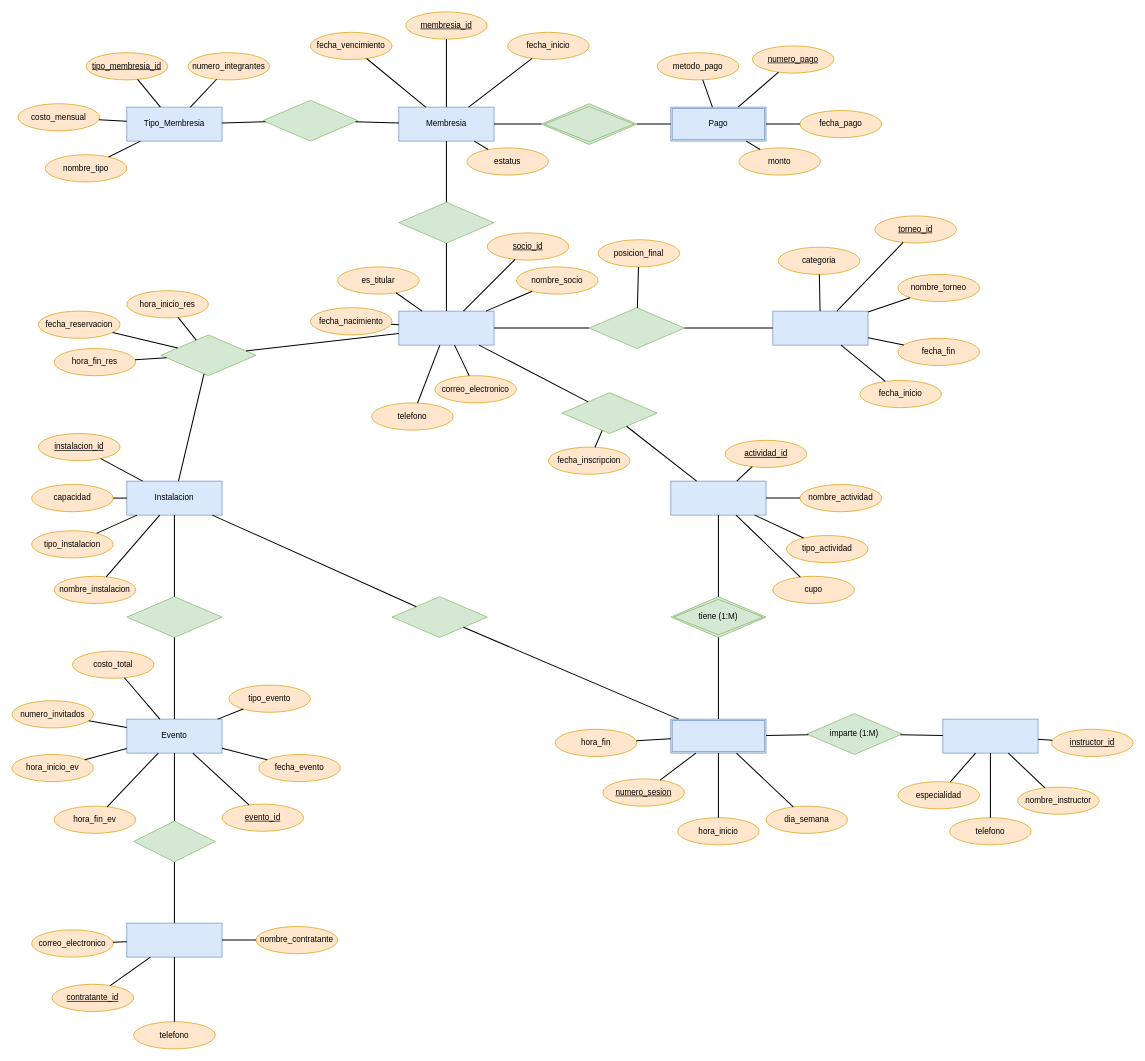
Some shapes in this 1145 by 1061 pixel diagram are drawn without their labels. The box of each missing label's shape, as (x1, y1, x2, y2) in pixels:
Actividad: (670, 480, 766, 515)
contrata (1:M): (133, 820, 215, 862)
Contratante: (126, 922, 222, 957)
define (1:M): (262, 100, 358, 141)
incluye (1:M): (398, 202, 494, 243)
inscribe (M:M): (561, 392, 657, 434)
Instructor: (942, 718, 1038, 753)
participa (M:M): (589, 307, 684, 348)
realiza_en (1:M): (391, 596, 487, 638)
recibe (1:M): (541, 103, 637, 144)
reserva (M:M): (160, 334, 256, 376)
se_realiza (1:M): (126, 596, 222, 638)
Sesion: (670, 718, 766, 753)
Socio: (398, 310, 494, 345)
Torneo: (772, 310, 868, 345)
